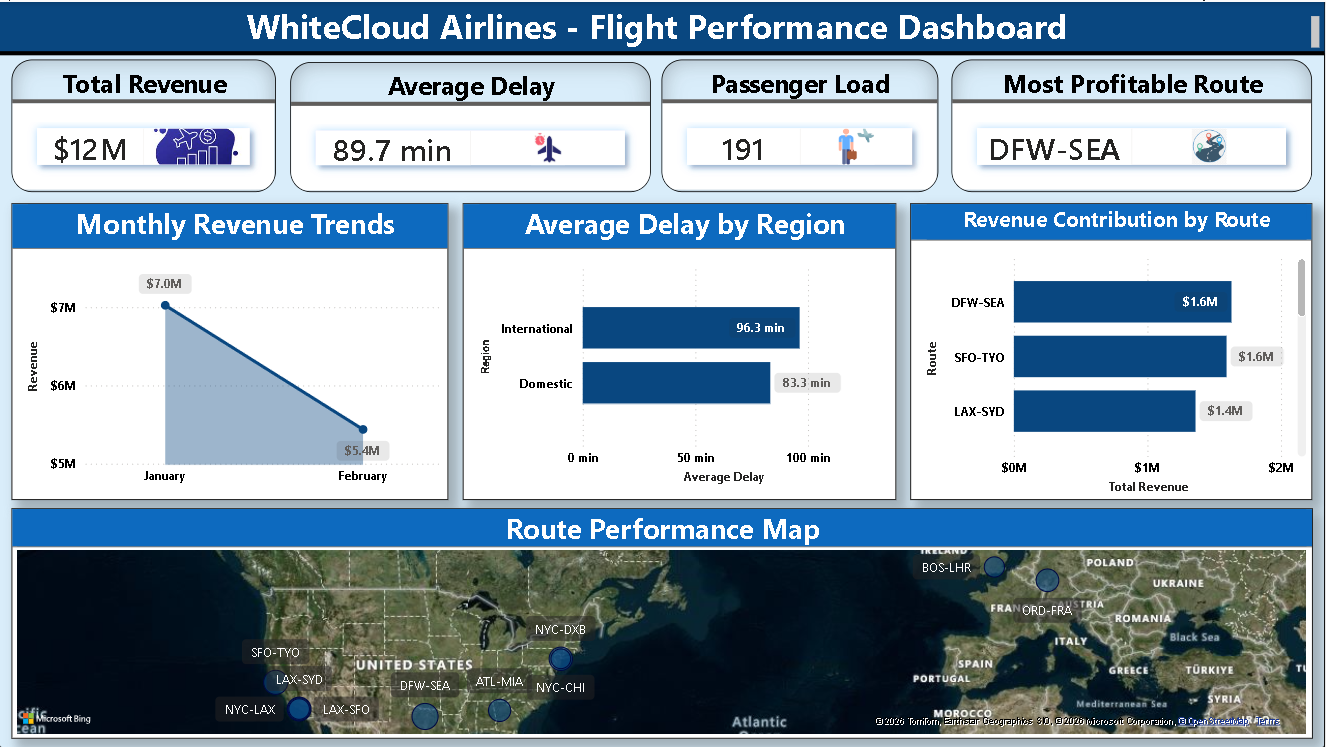

The dashboard page shown, as its layout file describes it:
{"tool":"powerbi","page":{"name":"Flight Performance","canvas":[1280,720],"ordinal":0},"visuals":[{"type":"textbox","box":[0,0,1279.1,48.8],"z":0},{"type":"shape","box":[0,43.4,1279.5,12],"z":1000},{"type":"cardVisual","title":"Total Revenue","fields":{"Data":["AirlinePerformance.Total Revenue"]},"box":[12,55.4,255.4,127.7],"z":2000},{"type":"cardVisual","title":"Average Delay","fields":{"Data":["AirlinePerformance.Average Delay"]},"box":[280.7,57.8,348.2,125.3],"z":3000},{"type":"cardVisual","title":"Passenger Load","fields":{"Data":["AirlinePerformance.Passenger Load"]},"box":[639.8,55.4,267.5,127.7],"z":4000},{"type":"cardVisual","title":"Most Profitable Route","fields":{"Data":["AirlinePerformance.Most Profitable Route"]},"box":[919.3,55.4,348.2,127.7],"z":5000},{"type":"lineChart","title":"Monthly Revenue Trends","fields":{"Category":["AirlinePerformance.Date.Variation.Date Hierarchy.Month"],"Y":["Sum(AirlinePerformance.Revenue)"]},"box":[12,194,421.7,286.7],"z":6000},{"type":"clusteredBarChart","title":"Average Delay by Region","fields":{"Category":["AirlinePerformance.Region"],"Y":["AirlinePerformance.Average Delay"]},"box":[447,194,418.1,286.7],"z":7000},{"type":"barChart","title":"Revenue Contribution by Route","fields":{"Category":["AirlinePerformance.Route"],"Y":["AirlinePerformance.Total Revenue"]},"box":[879.5,194,388,286.7],"z":8000},{"type":"map","title":"Route Performance Map","fields":{"Category":["AirlinePerformance.Route"],"Size":["Sum(AirlinePerformance.Passengers)"]},"box":[12.2,488.7,1255.7,222.6],"z":9000}]}

Visuals, with their boxes in screenshot pixels (x1, y1, x2, y2), scaled from the page's 1280x720 canvas onto the 1326x747 screenshot:
textbox: {"x1": 0, "y1": 0, "x2": 1325, "y2": 51}
shape: {"x1": 0, "y1": 45, "x2": 1325, "y2": 57}
"Total Revenue" cardVisual: {"x1": 12, "y1": 57, "x2": 277, "y2": 190}
"Average Delay" cardVisual: {"x1": 291, "y1": 60, "x2": 652, "y2": 190}
"Passenger Load" cardVisual: {"x1": 663, "y1": 57, "x2": 940, "y2": 190}
"Most Profitable Route" cardVisual: {"x1": 952, "y1": 57, "x2": 1313, "y2": 190}
"Monthly Revenue Trends" lineChart: {"x1": 12, "y1": 201, "x2": 449, "y2": 499}
"Average Delay by Region" clusteredBarChart: {"x1": 463, "y1": 201, "x2": 896, "y2": 499}
"Revenue Contribution by Route" barChart: {"x1": 911, "y1": 201, "x2": 1313, "y2": 499}
"Route Performance Map" map: {"x1": 13, "y1": 507, "x2": 1313, "y2": 738}
